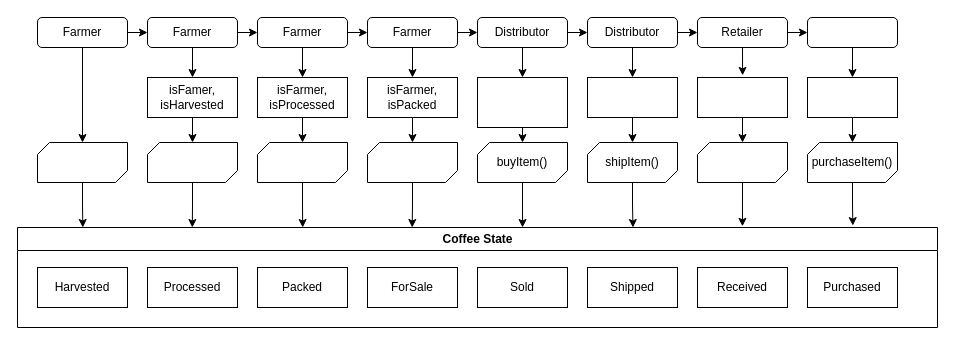
This 955x345 diagram has some shape labels left out. The centre of each missing label's shape, as x and y in pixels:
Consumer: (852,32)
harvestItem(): (82,162)
isForSale, paidEnough, checkValue: (522,102)
isReceived: (852,97)
isShipped: (742,97)
isSold, isDistributor: (632,97)
packItem(): (302,162)
processItem(): (192,162)
receiveItem(): (742,162)
sellItem(): (412,162)
